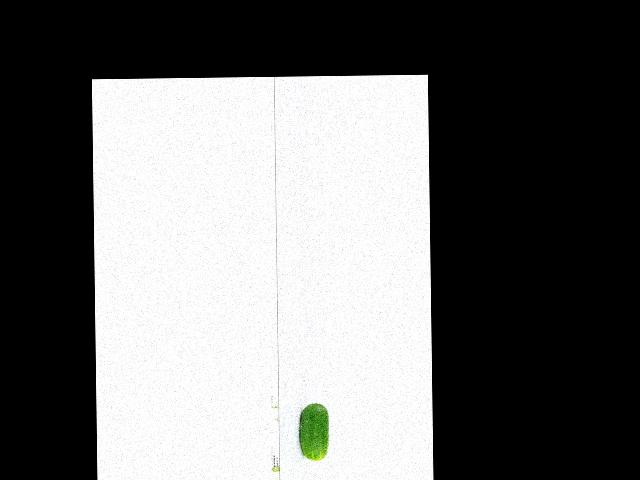cucumber: (299, 402, 328, 460)
